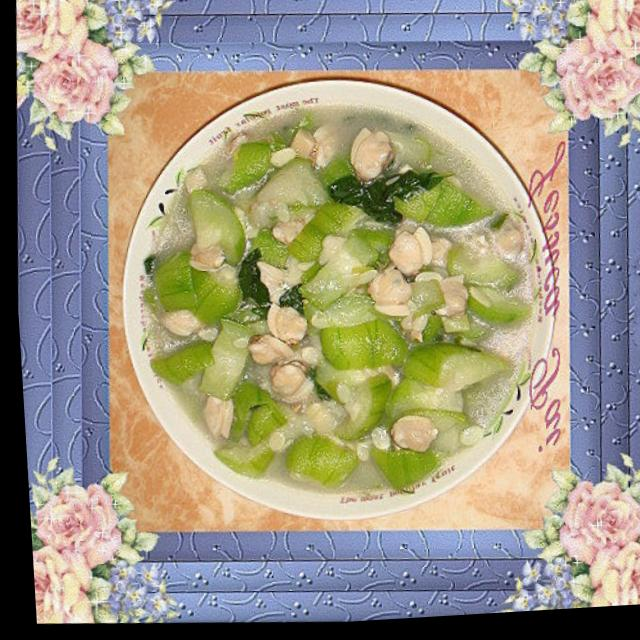Wet: (150, 146, 517, 502)
